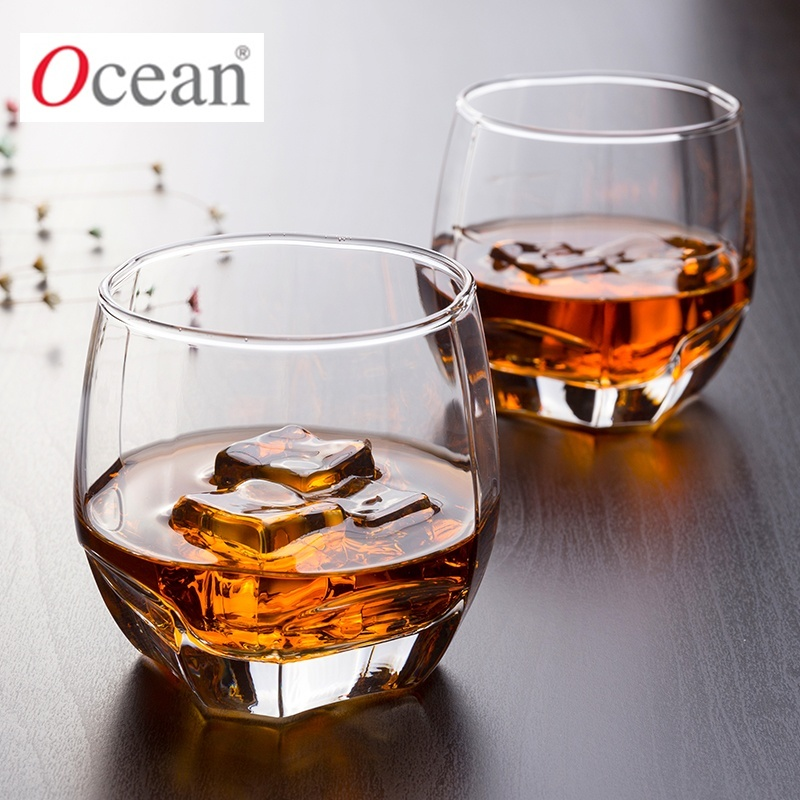whiskey: (76, 238, 503, 730), (423, 74, 758, 437)
